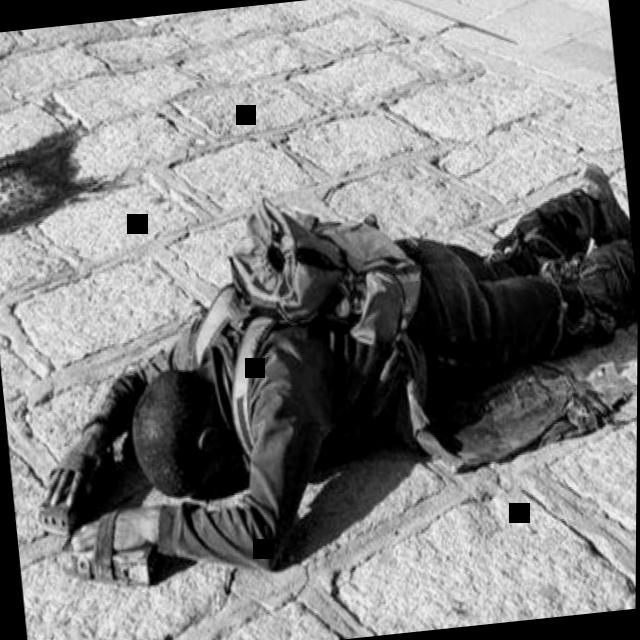Fall-Detected: (12, 130, 639, 628)
